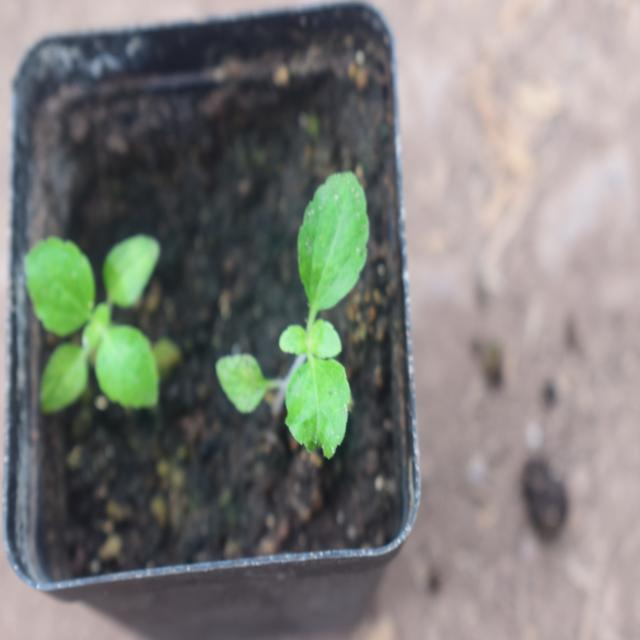billygoat_weed: (227, 162, 386, 482), (23, 200, 163, 440)
